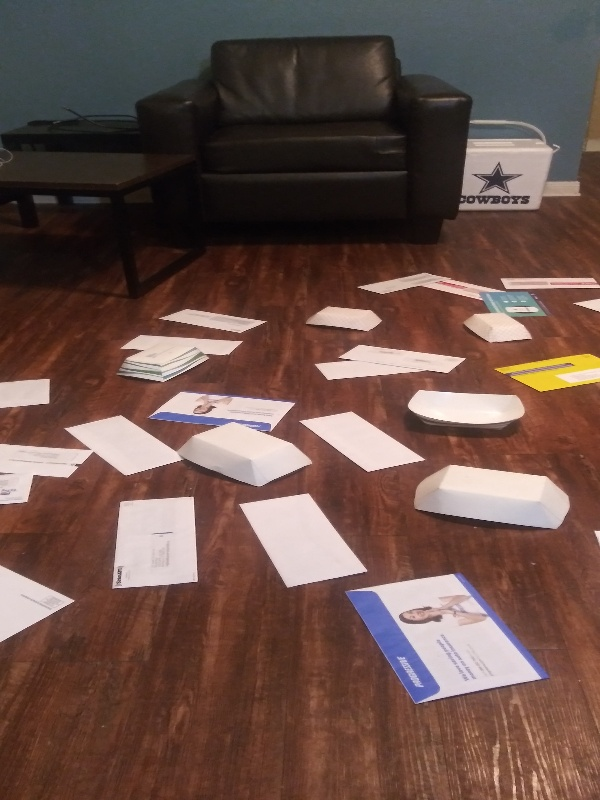plate: (411, 462, 576, 534), (172, 420, 318, 492), (405, 389, 528, 433), (114, 336, 213, 386), (302, 301, 386, 338), (458, 309, 536, 345)
